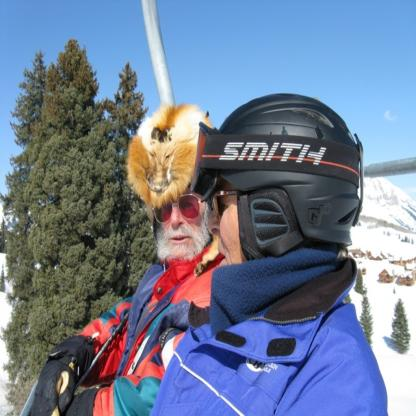Helmet: (178, 99, 366, 282)
